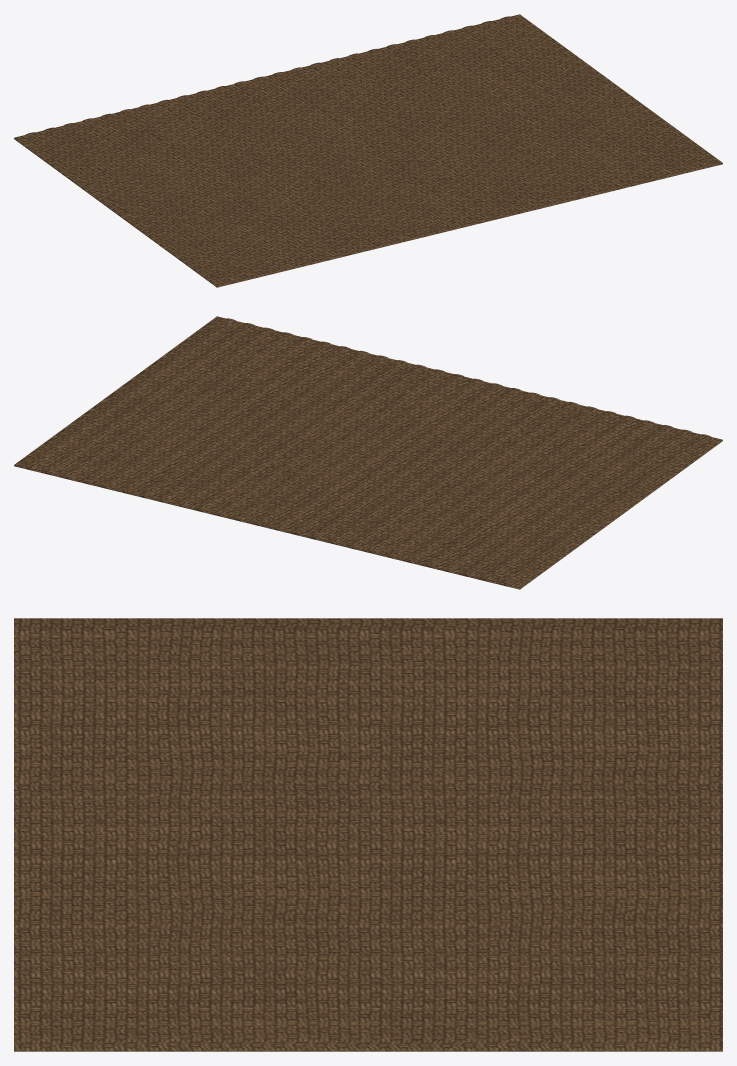
File: carpet.glb
The picture shows the model from 3 angles, top to bottom: view 1: azimuth 30°, elevation 25°; view 2: azimuth 150°, elevation 25°; view 3: azimuth 270°, elevation 25°; orthographic projection. The views are drawn at different scales.
Parts seen in each view (by area): view 1: Carpet_Flottebo; view 2: Carpet_Flottebo; view 3: Carpet_Flottebo.
Boxes of the visible parts, <box> form: Carpet_Flottebo: <box>14,14,722,287</box>; Carpet_Flottebo: <box>14,316,722,589</box>; Carpet_Flottebo: <box>14,618,722,1051</box>.
Bounding box in the file's own units: 240 × 0.9945 × 167.
Materials: 1 (1 with a texture image).
